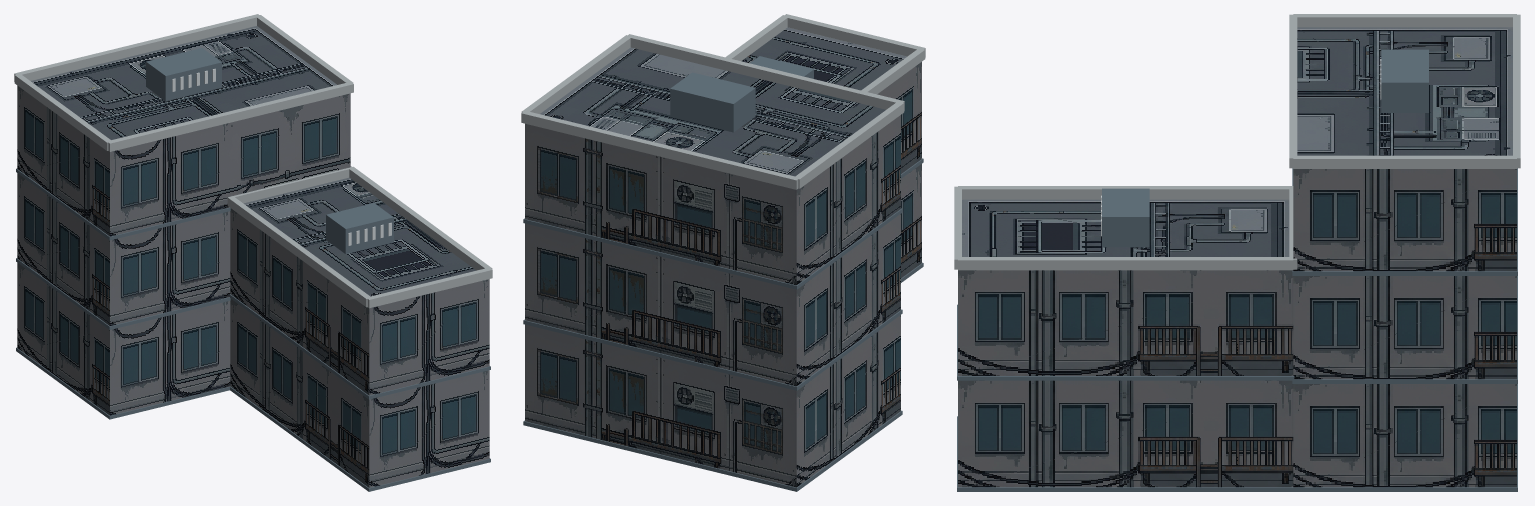
The model's file is street_east_corner.glb.
3 views of the same model, side by side, from view 1: azimuth 30°, elevation 25°; view 2: azimuth 150°, elevation 25°; view 3: azimuth 270°, elevation 25° (orthographic). The views are drawn at different scales.
Visible parts, largest first — view 1: street_east_corner; view 2: street_east_corner; view 3: street_east_corner.
Boxes of the visible parts, left/top/right/bottom form: street_east_corner: left=14, top=14, right=492, bottom=491; street_east_corner: left=521, top=14, right=925, bottom=491; street_east_corner: left=954, top=14, right=1520, bottom=491.
Bounding box in the file's own units: 6.14 × 7 × 10.14.
Materials: 5 (2 with a texture image).
